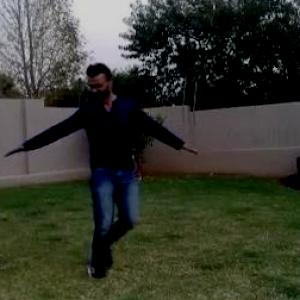land: (23, 73, 192, 260)
